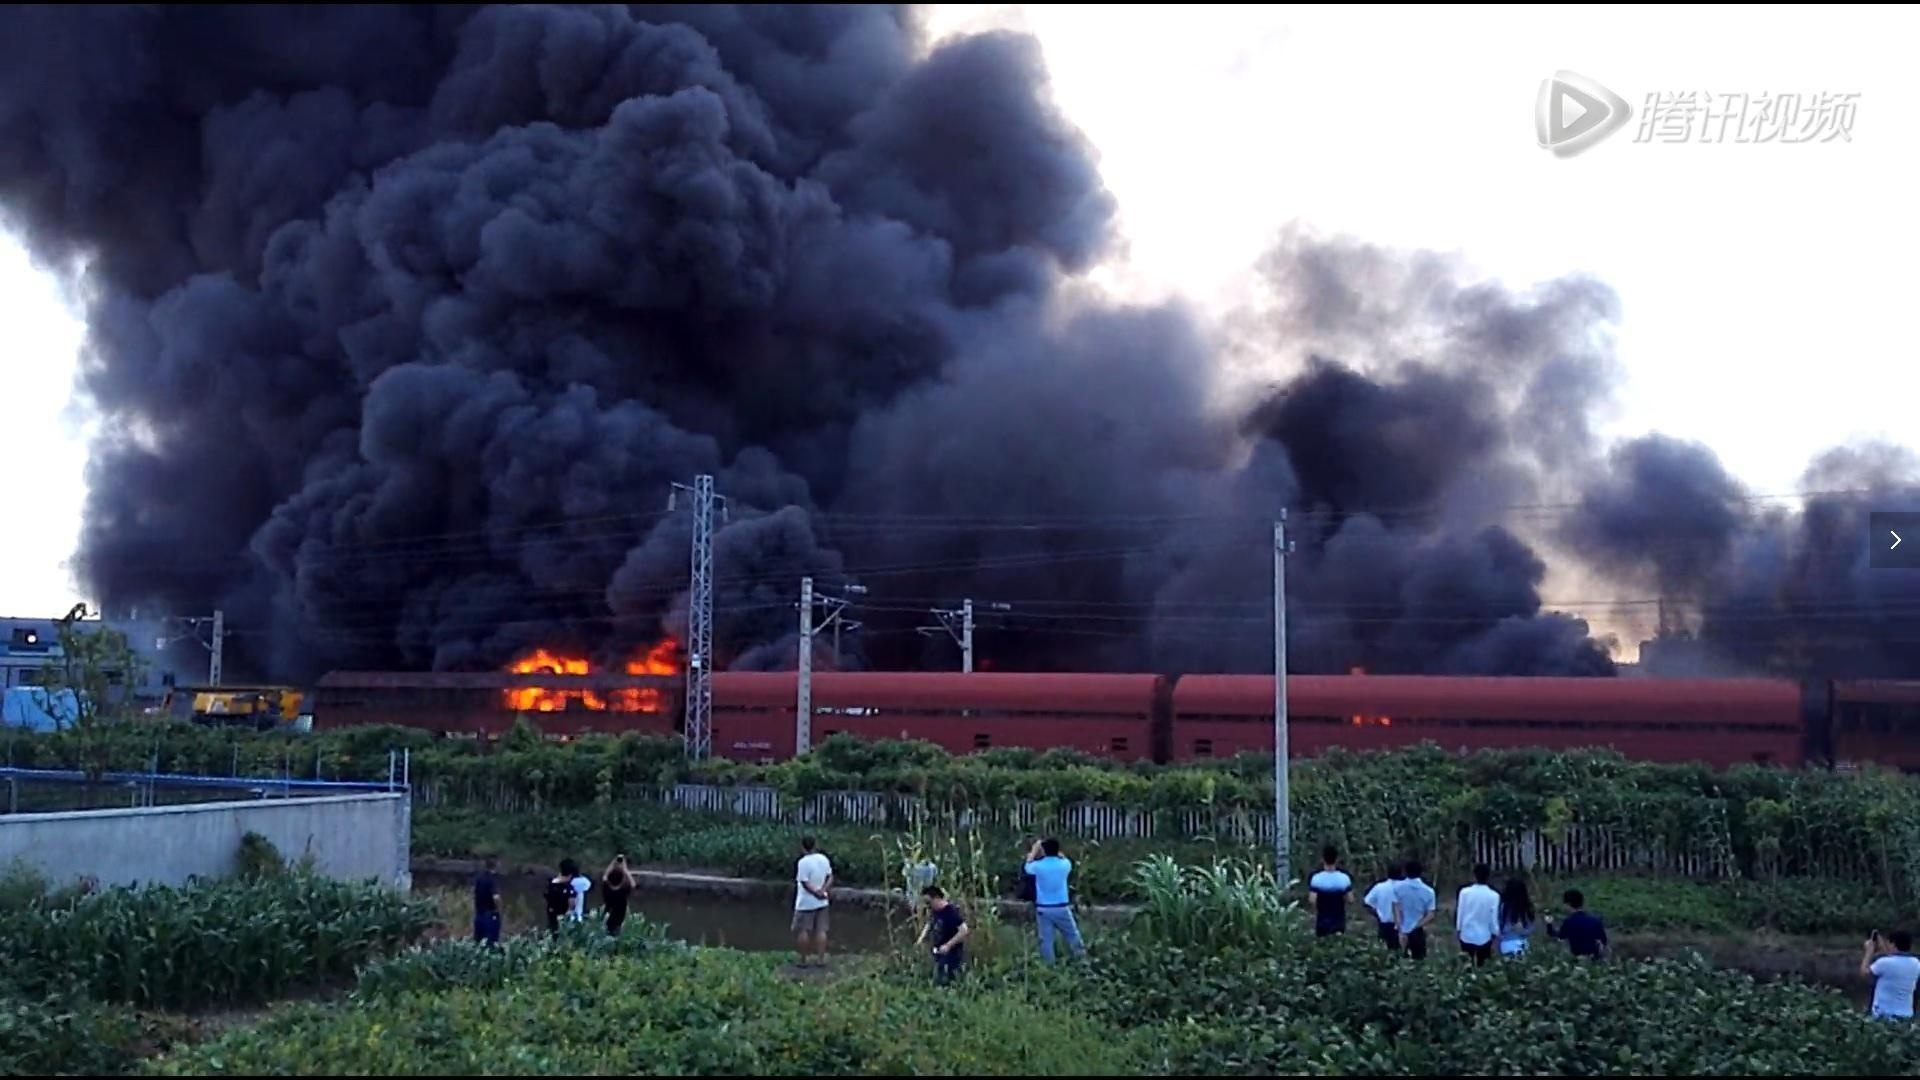fire: (504, 640, 686, 712)
